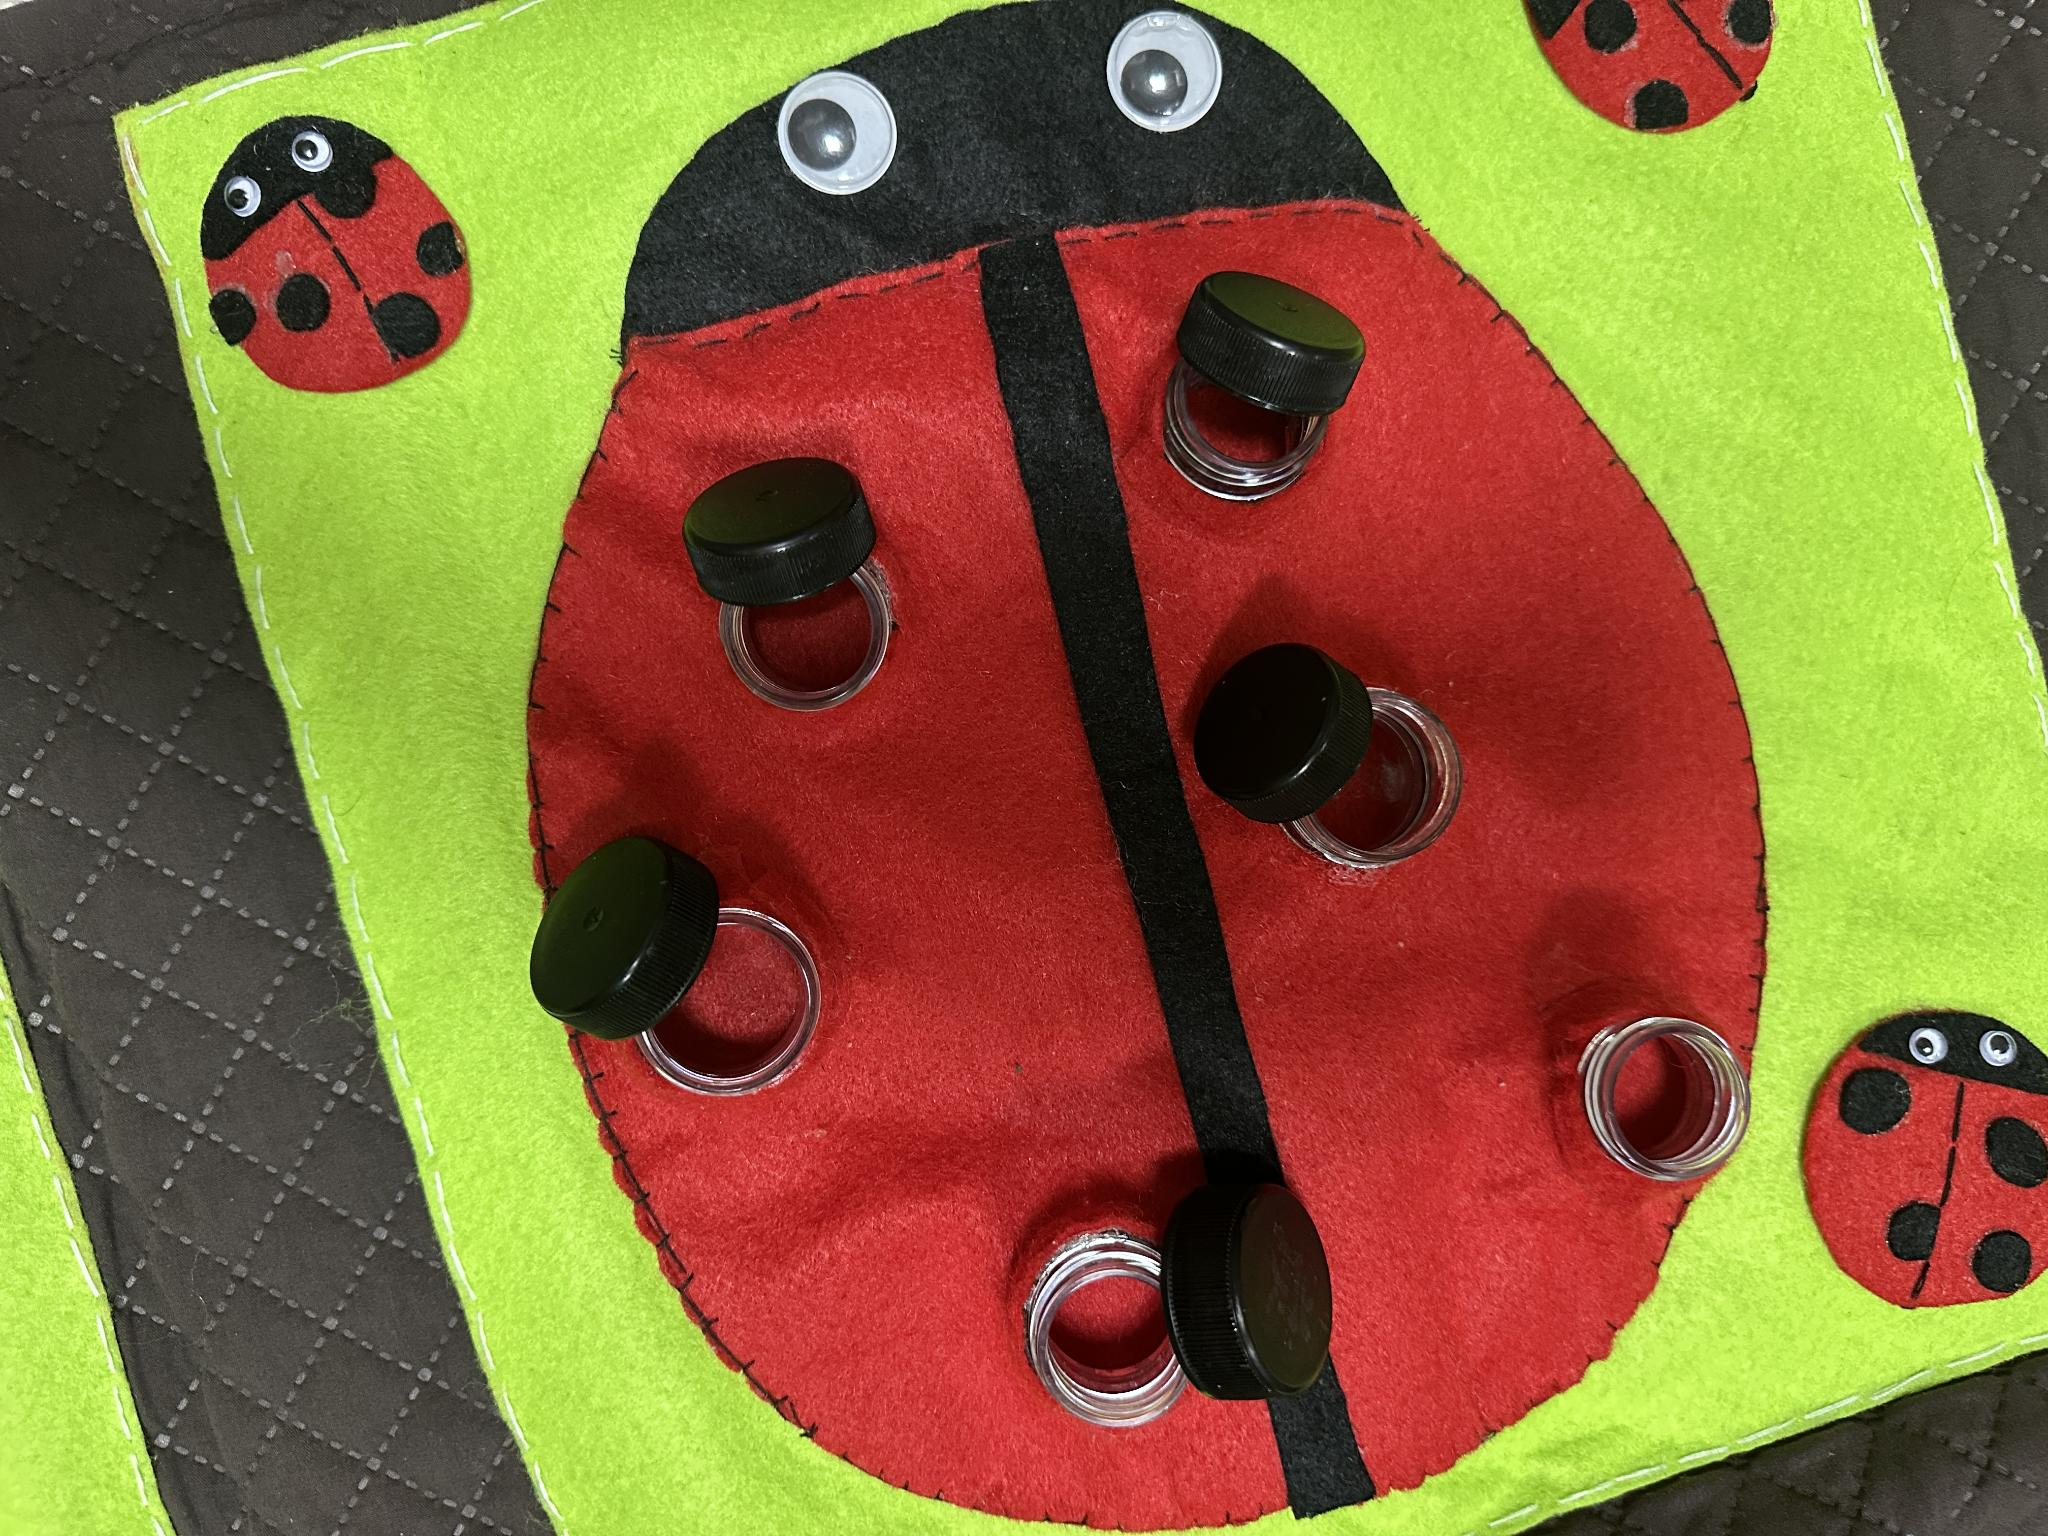cap_ng: (1008, 1167, 1351, 1450), (531, 824, 853, 1118), (671, 437, 940, 736), (1184, 613, 1482, 878), (1145, 255, 1388, 544)
